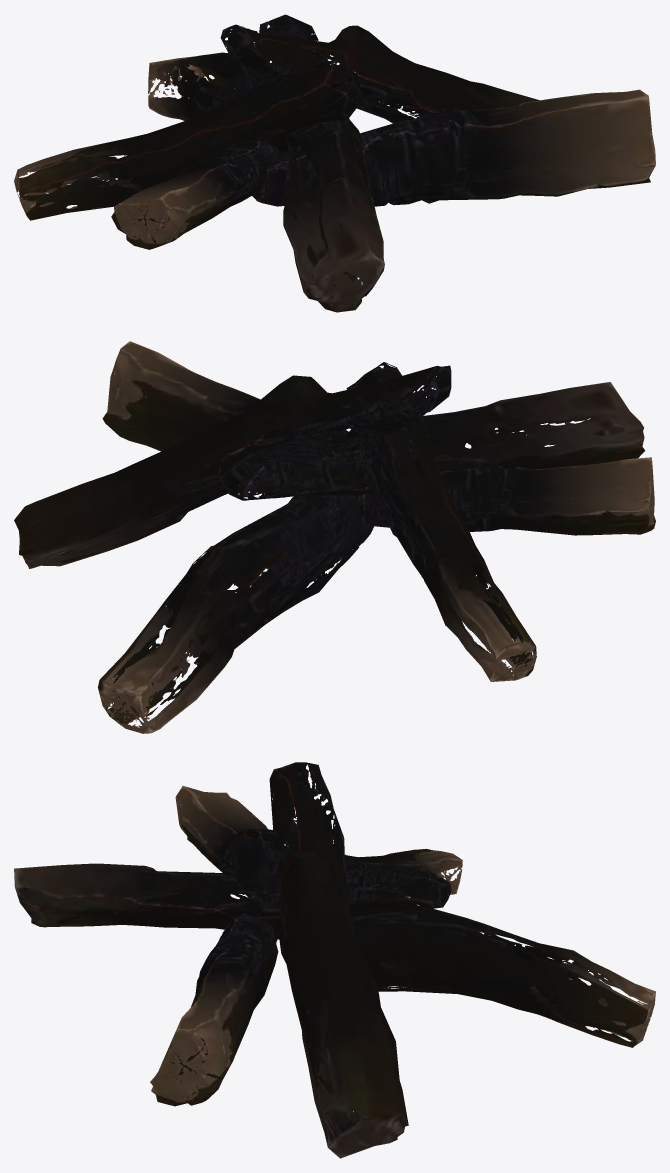
The picture shows the model from 3 angles, top to bottom: view 1: azimuth 30°, elevation 25°; view 2: azimuth 150°, elevation 25°; view 3: azimuth 270°, elevation 25°; orthographic projection. The views are drawn at different scales.
Visible parts, largest first — view 1: SM_Campfire_01_Logs_LOD0; view 2: SM_Campfire_01_Logs_LOD0; view 3: SM_Campfire_01_Logs_LOD0.
Part boxes in pixels (<box>): SM_Campfire_01_Logs_LOD0: <box>14,14,655,312</box>; SM_Campfire_01_Logs_LOD0: <box>14,341,655,733</box>; SM_Campfire_01_Logs_LOD0: <box>14,762,655,1158</box>.
Size of the model in its own units: 1.16 by 0.5314 by 1.28.
1 material, 1 textured.
